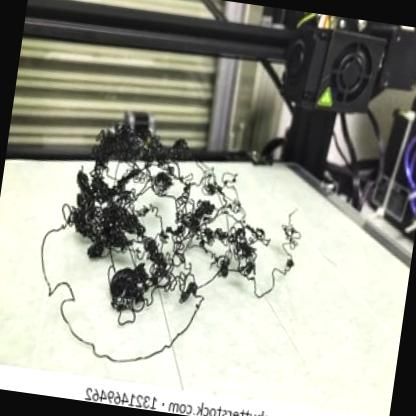fail: (20, 162, 306, 382)
